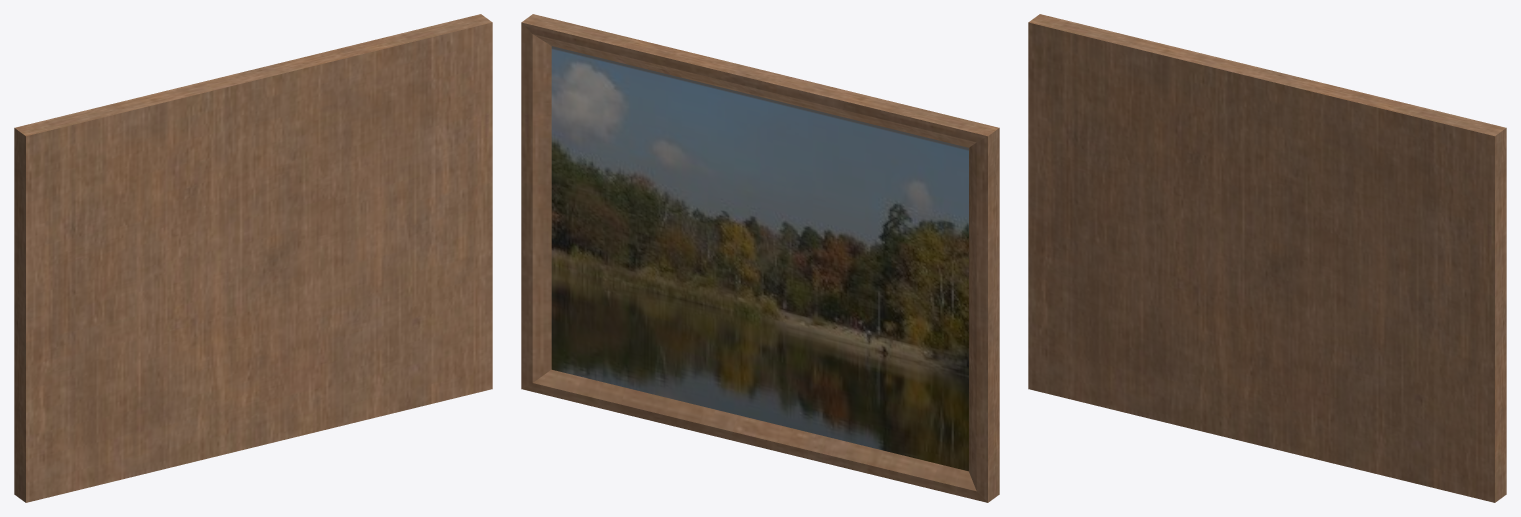
File: Paintings_05-col.glb
3 views of the same model, side by side, from view 1: azimuth 30°, elevation 25°; view 2: azimuth 150°, elevation 25°; view 3: azimuth 330°, elevation 25° (orthographic).
Visible parts, largest first — view 1: Paintings_05-col; view 2: Paintings_05-col; view 3: Paintings_05-col.
Boxes of the visible parts, x1,y1,x2,y2 form: Paintings_05-col: (14, 14, 492, 502); Paintings_05-col: (521, 14, 999, 502); Paintings_05-col: (1028, 14, 1506, 502).
Bounding box in the file's own units: 1.18 × 0.884 × 0.0505.
2 materials, 2 textured.
